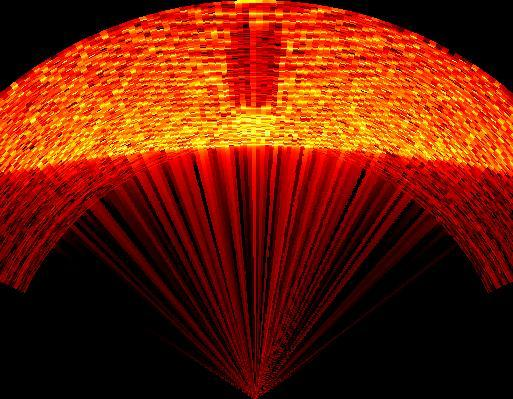box_crate: (223, 7, 289, 108)
